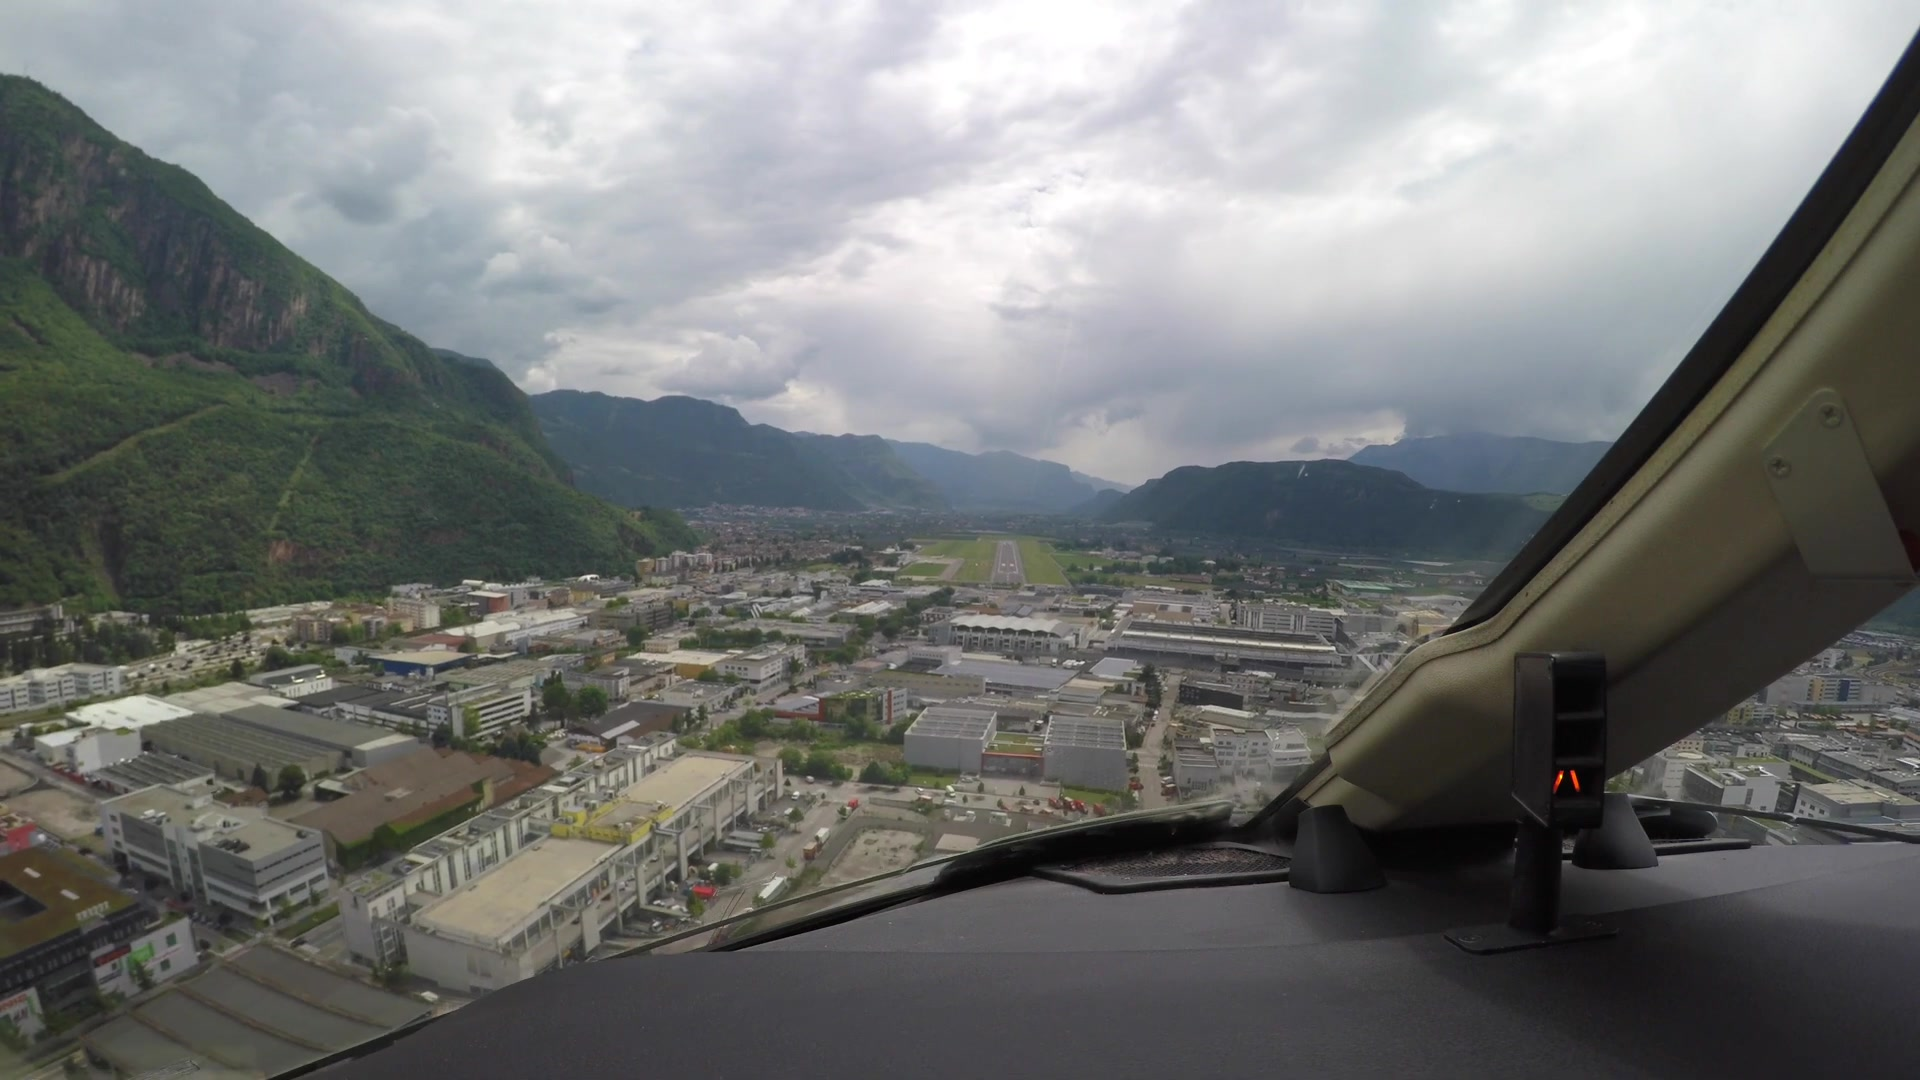runway: (997, 538, 1017, 578)
